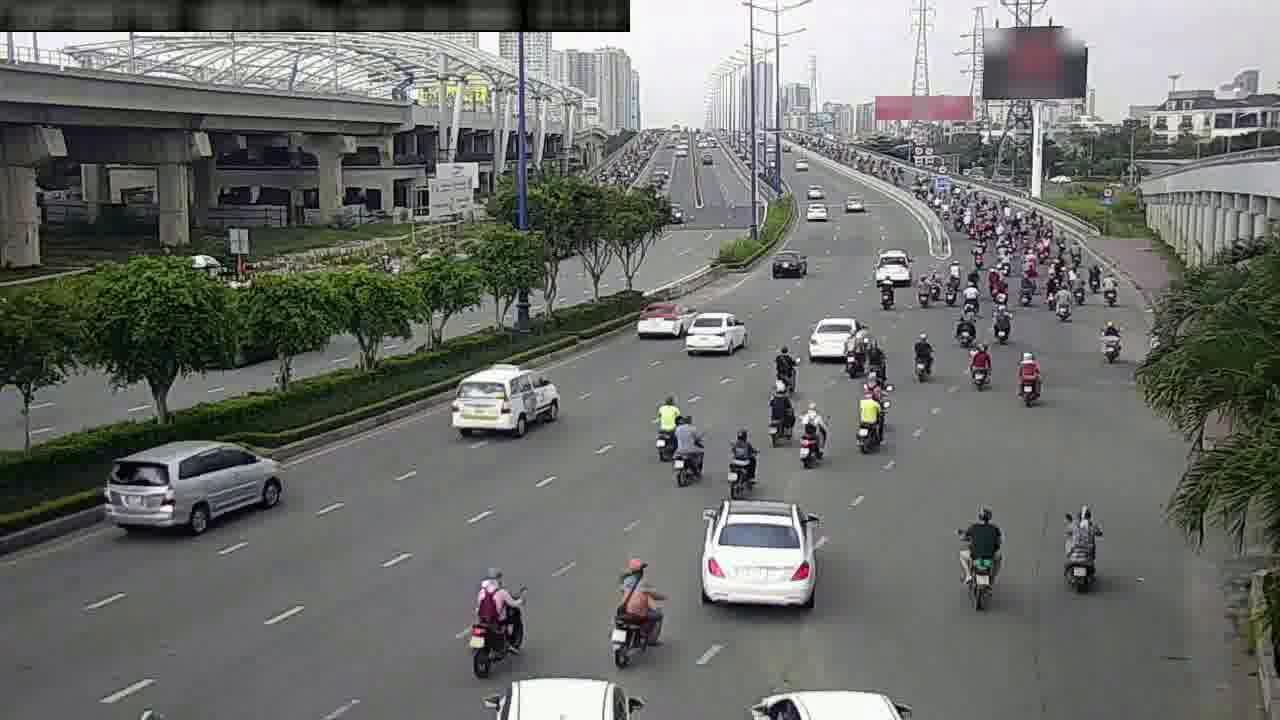container: (102, 431, 287, 535), (696, 486, 818, 606), (448, 357, 561, 433), (683, 305, 746, 360), (804, 307, 862, 364), (635, 291, 688, 338), (871, 244, 916, 285), (765, 243, 809, 280)
motorbike: (462, 562, 529, 670), (606, 560, 668, 664), (952, 501, 1004, 604), (1055, 495, 1108, 594), (721, 417, 763, 495), (668, 416, 708, 489), (849, 382, 887, 452), (792, 400, 829, 469), (646, 391, 683, 459), (762, 382, 794, 446), (1011, 347, 1045, 406), (766, 337, 800, 393), (1095, 315, 1127, 367), (906, 330, 937, 383), (963, 339, 993, 391), (841, 328, 871, 379), (862, 339, 889, 388), (949, 303, 978, 348), (987, 301, 1015, 346), (873, 271, 899, 313), (1098, 266, 1123, 308), (1014, 273, 1037, 310), (941, 268, 963, 305), (986, 267, 1008, 304), (960, 275, 981, 311), (1054, 286, 1072, 326), (929, 266, 947, 303), (1070, 270, 1086, 308), (1042, 273, 1056, 310), (916, 269, 929, 306)
